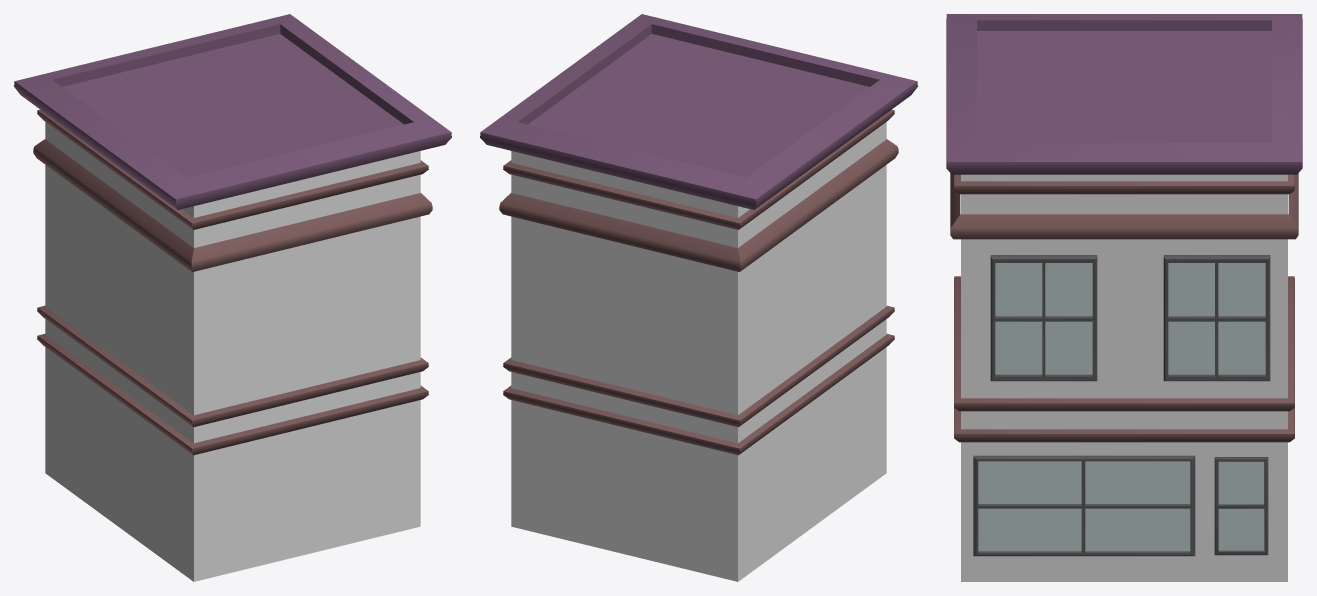
The model's file is Building_2_New.fbx.
3 views of the same model, side by side, from view 1: azimuth 30°, elevation 25°; view 2: azimuth 150°, elevation 25°; view 3: azimuth 270°, elevation 25° (orthographic). The views are drawn at different scales.
Visible parts, largest first — view 1: Building_Type_Base, Top_Type_4, Molding_Type_11, Molding_Type_2, Molding_Type_4, Molding_Type_12; view 2: Building_Type_Base, Top_Type_4, Molding_Type_11, Molding_Type_2, Molding_Type_4, Molding_Type_12; view 3: Building_Type_Base, Top_Type_4, Window_Type_6, Window_Type_11, Window_Type_12, Molding_Type_11, Molding_Type_2, Window_11, Molding_Type_4, Molding_Type_12.
Part boxes in pixels (x1,y1,x2,y2): Building_Type_Base: [45, 122, 420, 581]; Top_Type_4: [14, 14, 451, 209]; Molding_Type_11: [33, 139, 432, 271]; Molding_Type_2: [37, 305, 428, 427]; Molding_Type_4: [37, 334, 428, 455]; Molding_Type_12: [37, 109, 428, 229]; Building_Type_Base: [511, 122, 886, 581]; Top_Type_4: [480, 14, 917, 209]; Molding_Type_11: [499, 139, 898, 271]; Molding_Type_2: [503, 305, 894, 427]; Molding_Type_4: [503, 334, 894, 455]; Molding_Type_12: [503, 109, 894, 229]; Building_Type_Base: [961, 174, 1287, 581]; Top_Type_4: [946, 14, 1302, 174]; Window_Type_6: [973, 455, 1195, 556]; Window_Type_11: [1163, 255, 1270, 381]; Window_Type_12: [990, 255, 1097, 381]; Molding_Type_11: [950, 173, 1298, 239]; Molding_Type_2: [954, 276, 1294, 411]; Window_11: [1214, 457, 1268, 555]; Molding_Type_4: [954, 408, 1294, 442]; Molding_Type_12: [954, 174, 1294, 194].
Bounding box in the file's own units: 21.32 × 29.44 × 21.63.
